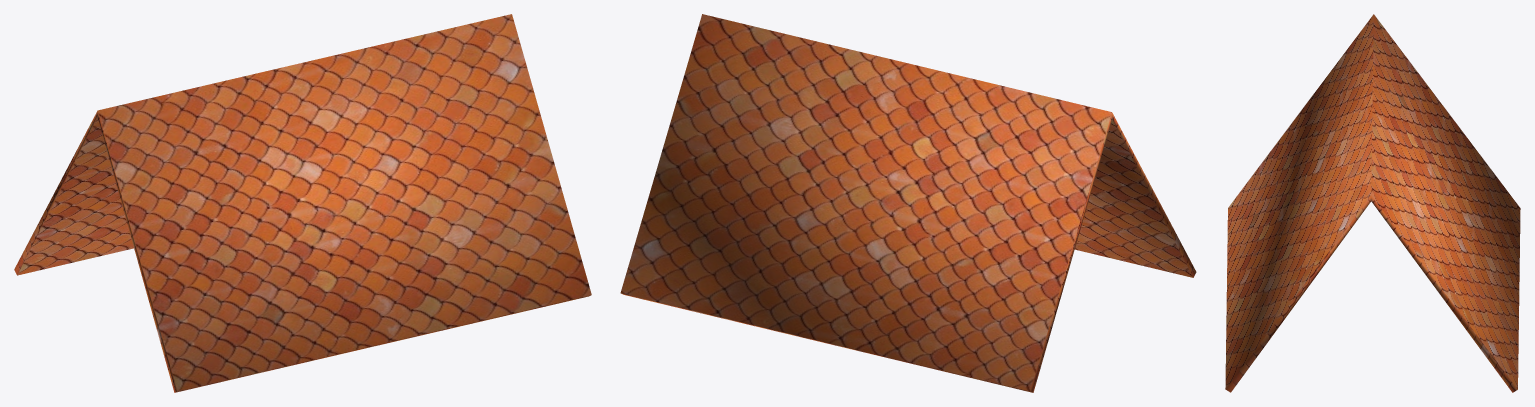
File: techo.obj
3 views of the same model, side by side, from view 1: azimuth 30°, elevation 25°; view 2: azimuth 150°, elevation 25°; view 3: azimuth 270°, elevation 25° (orthographic). The views are drawn at different scales.
Visible parts, largest first — view 1: Prism001; view 2: Prism001; view 3: Prism001.
Part boxes in pixels (x1,y1,x2,y2): Prism001: [14, 14, 591, 392]; Prism001: [620, 14, 1196, 392]; Prism001: [1225, 14, 1520, 392].
Bounding box in the file's own units: 65.38 × 34.16 × 45.39.
